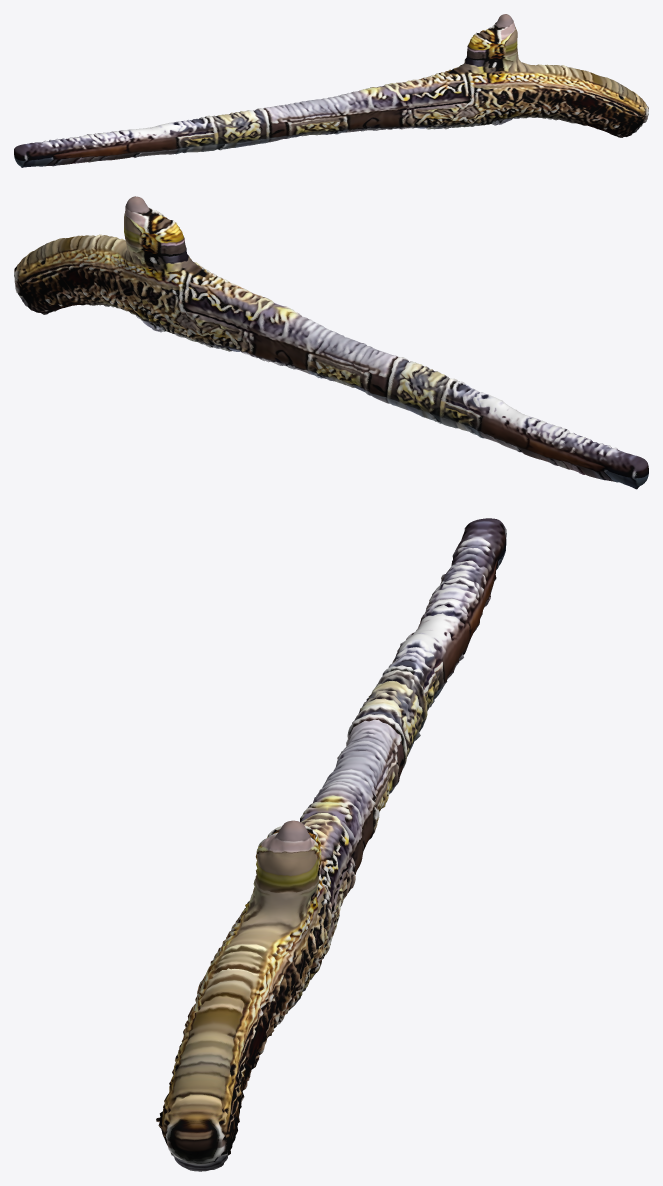
File: kfl-2169.glb
3 views of the same model, one above another, from view 1: azimuth 30°, elevation 25°; view 2: azimuth 150°, elevation 25°; view 3: azimuth 270°, elevation 25° (orthographic). The views are drawn at different scales.
Parts seen in each view (by area): view 1: kfl-2169; view 2: kfl-2169; view 3: kfl-2169.
Part boxes in pixels (x1,y1,x2,y2): kfl-2169: [14, 14, 648, 167]; kfl-2169: [14, 196, 648, 489]; kfl-2169: [156, 518, 506, 1171].
Bounding box in the file's own units: 0.9877 × 0.2173 × 0.2691.
1 material, 1 textured.
